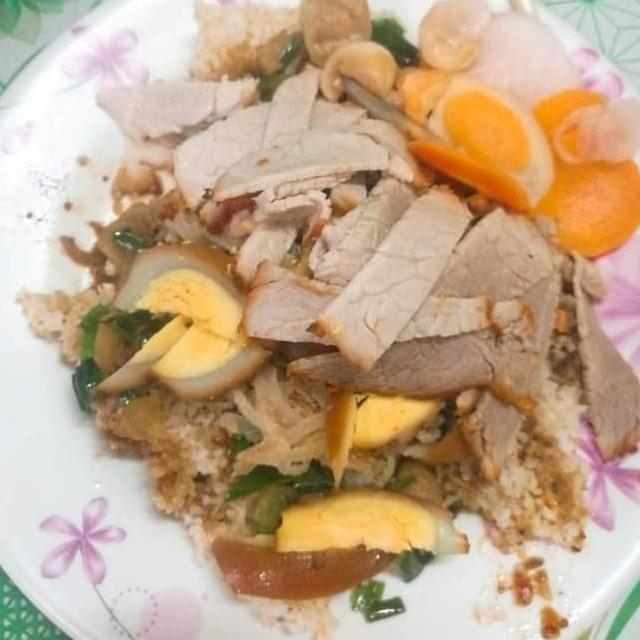bi: (217, 357, 342, 488)
com: (93, 378, 289, 570), (437, 366, 595, 562), (177, 0, 307, 95)
com suon bi trung: (2, 0, 640, 640)
dua chua: (392, 0, 640, 265)
suon: (90, 55, 476, 372), (236, 198, 640, 483)
trung: (207, 482, 478, 606), (108, 236, 290, 407), (316, 374, 452, 496)
